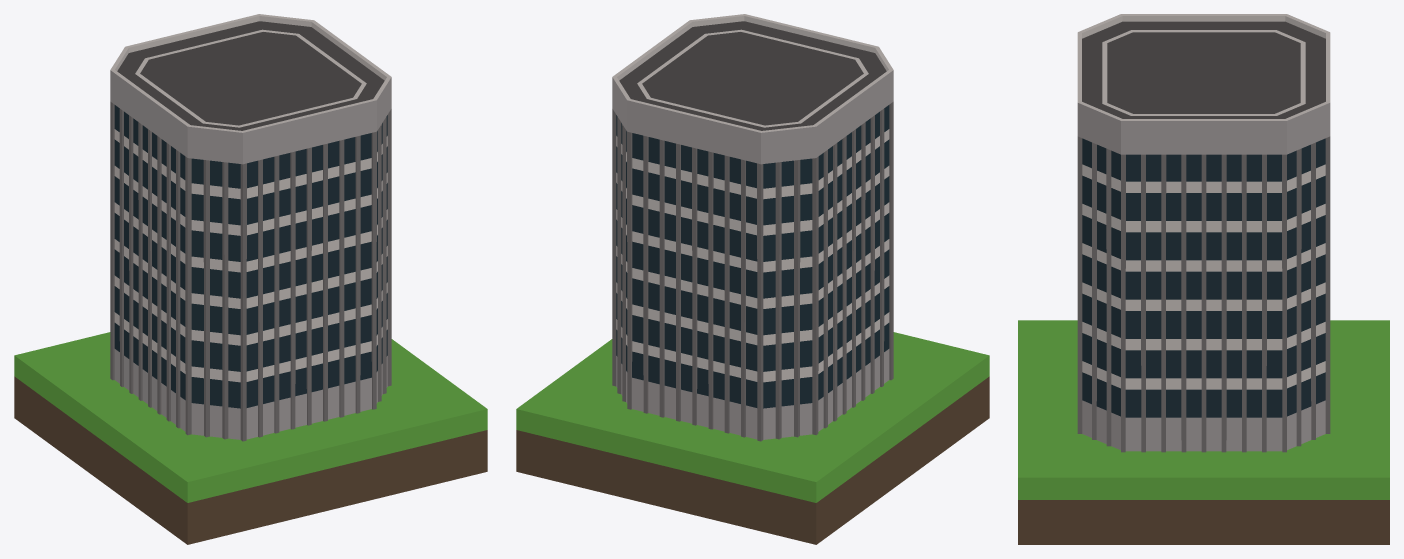
The model's file is skyscraper.glb.
3 views of the same model, side by side, from view 1: azimuth 30°, elevation 25°; view 2: azimuth 150°, elevation 25°; view 3: azimuth 270°, elevation 25° (orthographic). The views are drawn at different scales.
Visible parts, largest first — view 1: skyscraper; view 2: skyscraper; view 3: skyscraper.
Part boxes in pixels (x1,y1,x2,y2): skyscraper: [14, 14, 487, 544]; skyscraper: [516, 14, 989, 544]; skyscraper: [1018, 14, 1389, 544].
Size of the model in its own units: 30 by 35.5 by 30.
1 material, 1 textured.
